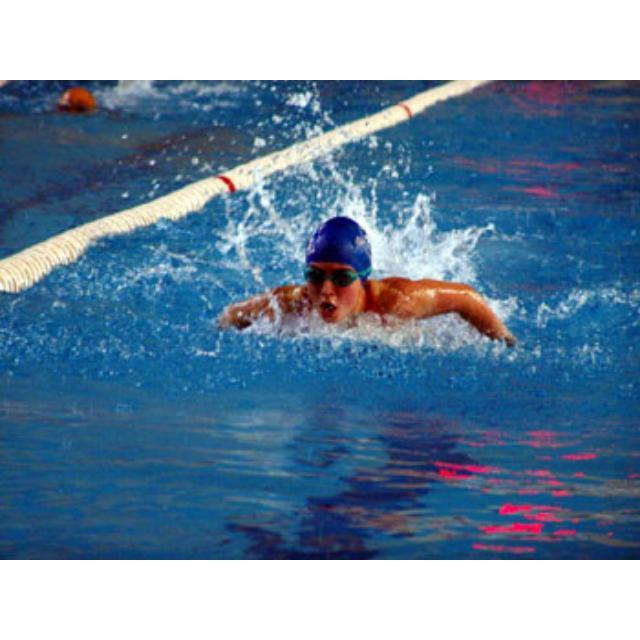human: (220, 217, 519, 352)
